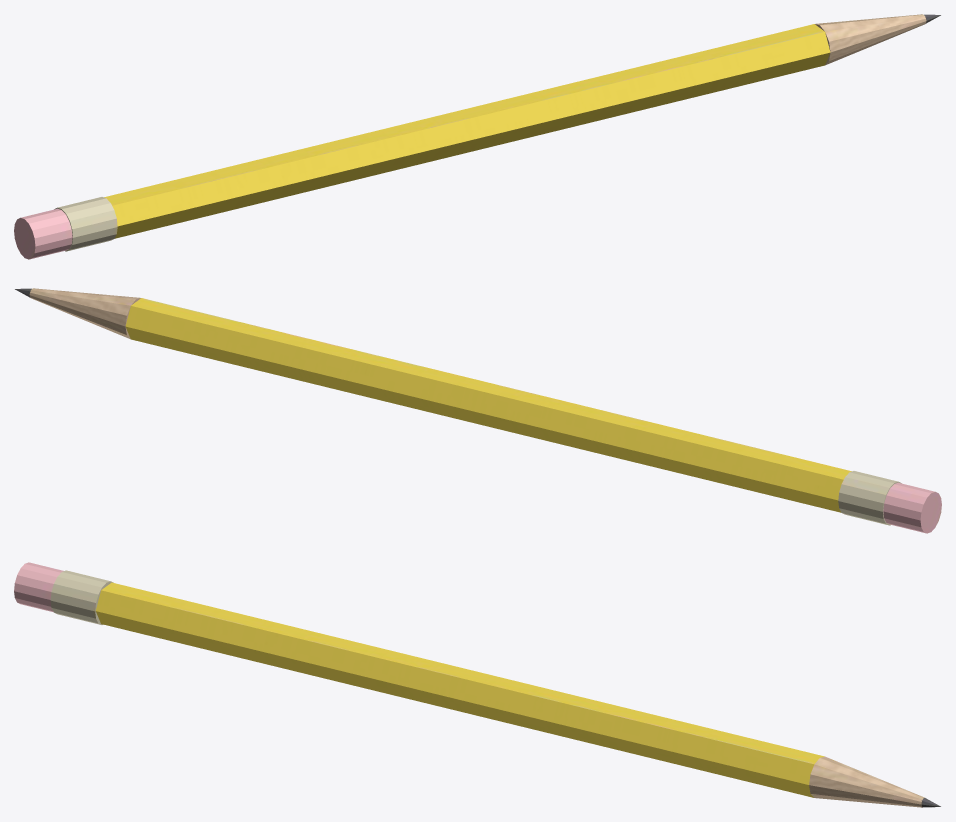
Rendered from pencil.glb.
3 views of the same model, one above another, from view 1: azimuth 30°, elevation 25°; view 2: azimuth 150°, elevation 25°; view 3: azimuth 330°, elevation 25° (orthographic).
Visible parts, largest first — view 1: pencil; view 2: pencil; view 3: pencil.
Part boxes in pixels (box(x1,y1,x2,y2)): pencil: box(14, 14, 940, 259); pencil: box(15, 288, 941, 533); pencil: box(14, 562, 940, 807).
Bounding box in the file's own units: 12.34 × 0.525 × 0.525.
Materials: 1 (1 with a texture image).
